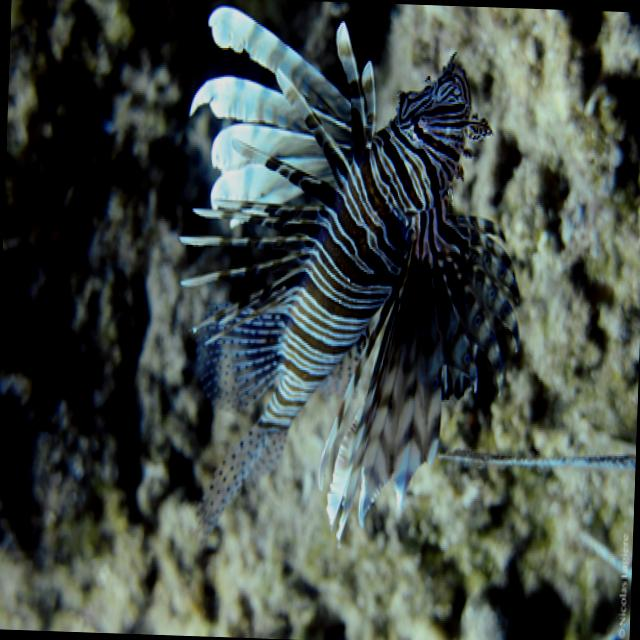Aslan Baligi: (165, 2, 532, 556)
